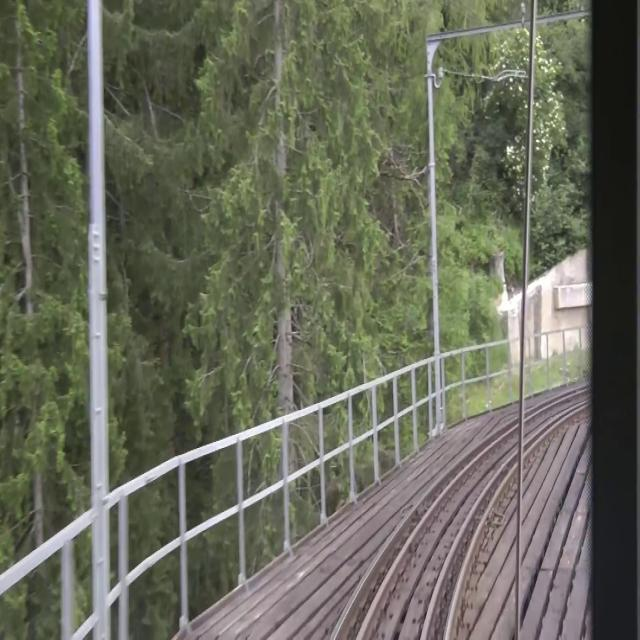rail-track: (363, 392, 590, 639), (336, 456, 470, 639), (428, 462, 512, 639)
